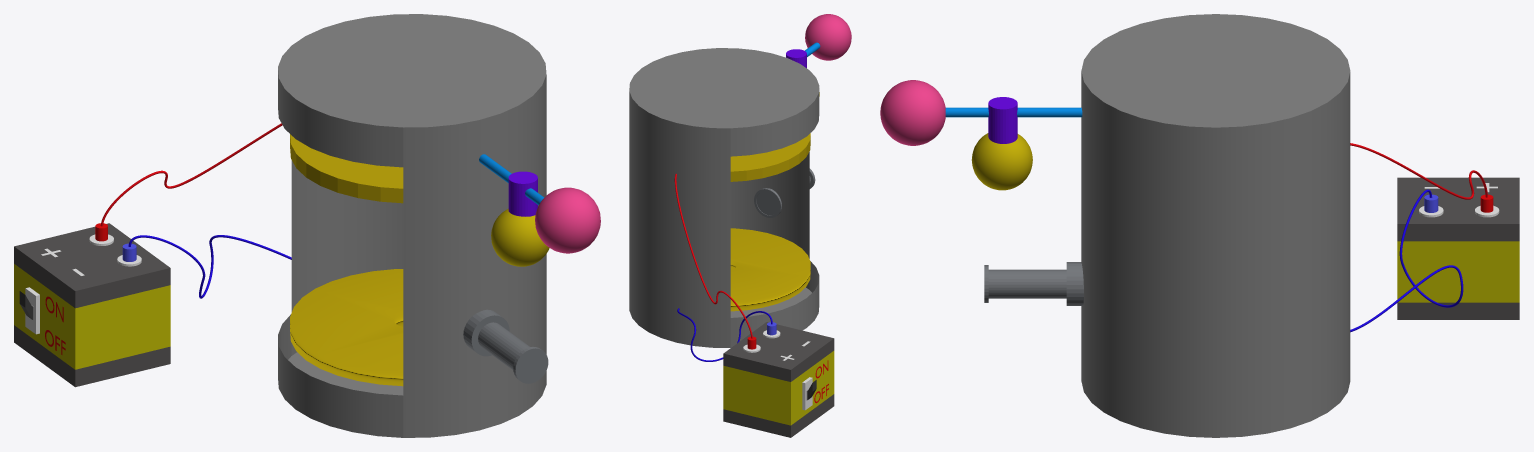
Rendered from LABWG.fbx.
3 views of the same model, side by side, from view 1: azimuth 30°, elevation 25°; view 2: azimuth 150°, elevation 25°; view 3: azimuth 270°, elevation 25° (orthographic). The views are drawn at different scales.
Parts seen in each view (by area): view 1: Cylinder, Cylinder.008, Plate1.001, Cube, Cube.001, Plate1, Sphere, Cylinder.007, Sphere.001, Cylinder.004, BézierCurve, BézierCurve.001 (+1 smaller); view 2: Cylinder, Plate1.001, Cube, Cylinder.008, Cube.001, Plate1, Sphere, Cylinder.007, BézierCurve.001, BézierCurve, Cylinder.004, Cube.002; view 3: Cylinder, Cube, Cube.001, Sphere, Cylinder.007, Sphere.001, Cylinder.004, Cylinder.003, BézierCurve.
Part boxes in pixels (<box>): Cylinder: <box>278,14,546,437</box>; Cylinder.008: <box>278,70,403,437</box>; Plate1.001: <box>290,269,403,386</box>; Cube: <box>14,223,170,387</box>; Cube.001: <box>14,264,170,369</box>; Plate1: <box>290,134,403,203</box>; Sphere: <box>535,187,600,253</box>; Cylinder.007: <box>463,309,548,383</box>; Sphere.001: <box>491,208,549,266</box>; Cylinder.004: <box>508,171,537,216</box>; BézierCurve: <box>128,235,291,298</box>; BézierCurve.001: <box>100,123,282,226</box>; Cylinder: <box>629,48,819,347</box>; Plate1.001: <box>730,228,810,311</box>; Cube: <box>723,322,834,437</box>; Cylinder.008: <box>730,88,819,347</box>; Cube.001: <box>723,351,834,425</box>; Plate1: <box>730,133,810,181</box>; Sphere: <box>805,14,851,60</box>; Cylinder.007: <box>754,168,815,217</box>; BézierCurve.001: <box>674,174,752,338</box>; BézierCurve: <box>677,308,772,361</box>; Cylinder.004: <box>786,49,806,68</box>; Cube.002: <box>802,377,812,410</box>; Cylinder: <box>1081,14,1350,437</box>; Cube: <box>1397,177,1519,319</box>; Cube.001: <box>1397,241,1519,302</box>; Sphere: <box>880,80,945,145</box>; Cylinder.007: <box>984,262,1083,305</box>; Sphere.001: <box>971,133,1032,190</box>; Cylinder.004: <box>988,97,1017,143</box>; Cylinder.003: <box>945,107,1082,117</box>; BézierCurve: <box>1350,189,1463,332</box>.
Bounding box in the file's own units: 354 × 291 × 523.
